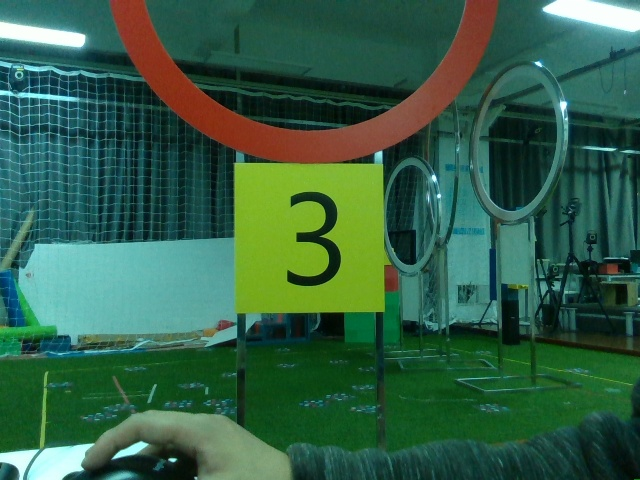target: (235, 165, 384, 305)
